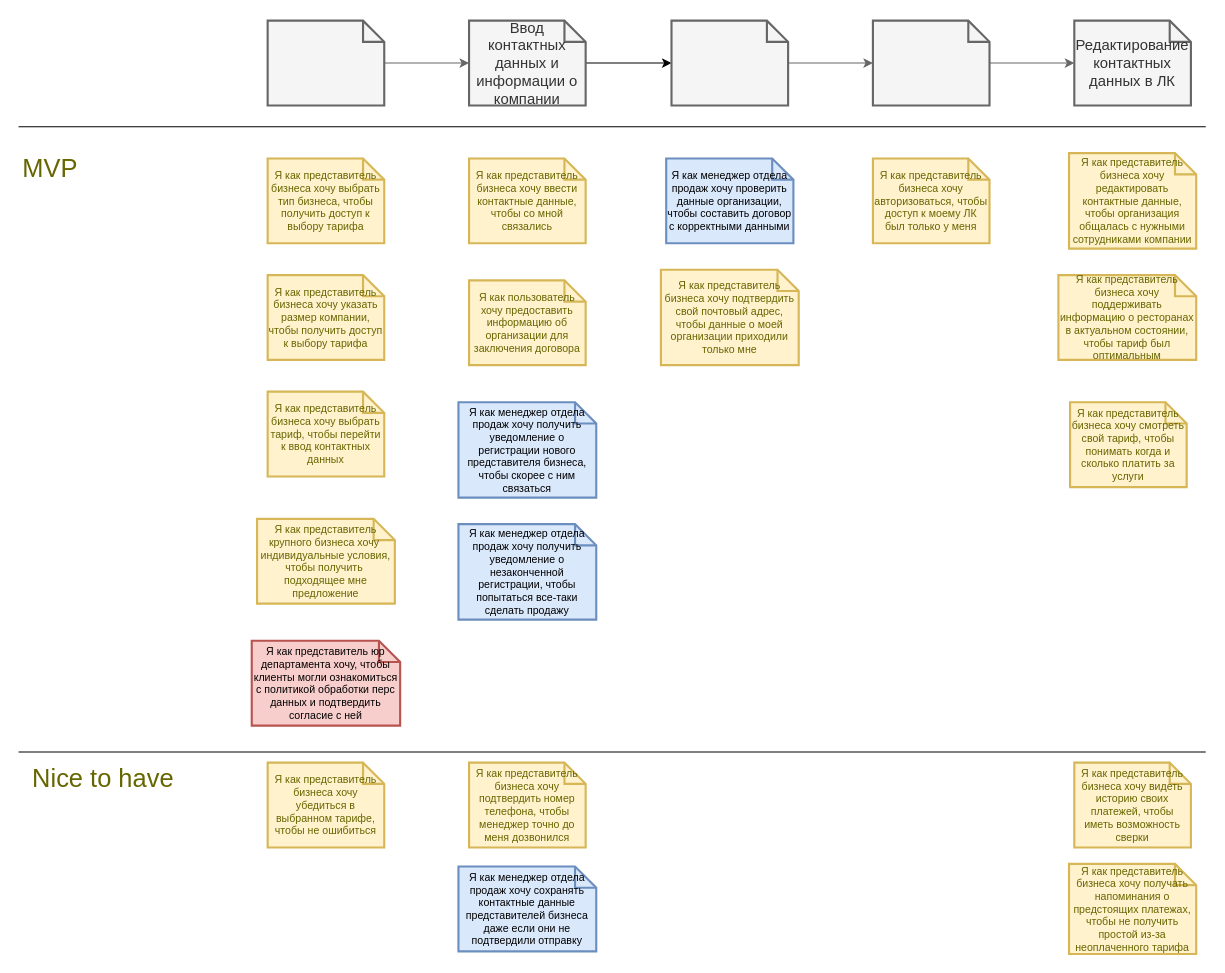
Some shapes in this 1225 by 973 pixel diagram are drawn without their labels. The centre of each missing label's shape, as x and y in pixels:
Активация ЛК клиента: the point at 729,62
Вход в ЛК клиента: the point at 930,62
Выбор типа бизнеса, тарифа или инд. условий: the point at 325,62
